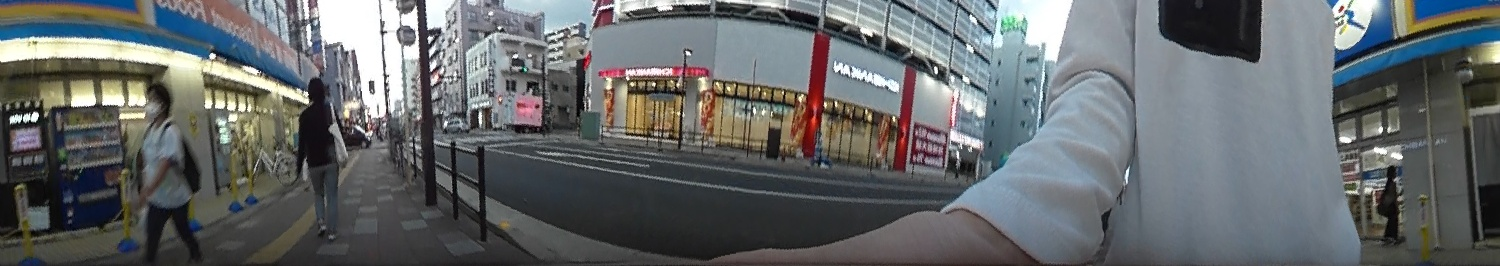person: (130, 77, 208, 266), (296, 73, 347, 247), (1376, 165, 1409, 248)
